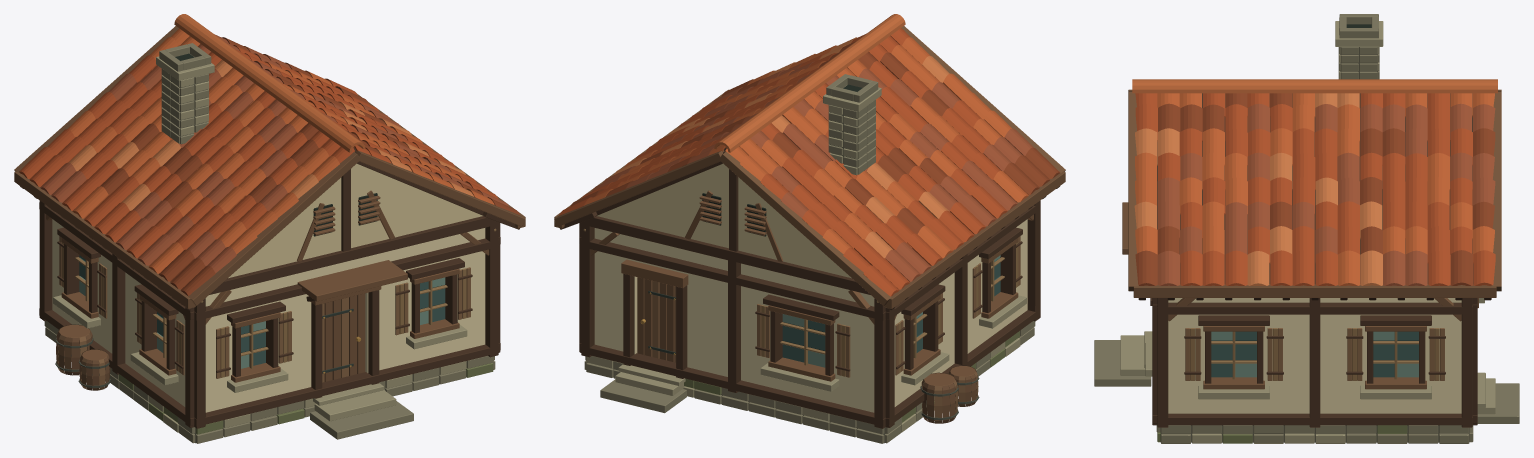
Rendered from cottage.glb.
The picture shows the model from 3 angles, left to right: view 1: azimuth 30°, elevation 25°; view 2: azimuth 150°, elevation 25°; view 3: azimuth 270°, elevation 25°; orthographic projection. The views are drawn at different scales.
Parts seen in each view (by area): view 1: cottage_material_timber_structure, cottage_material_terracotta_russet, cottage_material_plaster_lime, cottage_material_timber_endgrain, cottage_material_terracotta_warm, cottage_material_terracotta_aged, cottage_material_plaster_warm, cottage_material_stone_aged, cottage_material_stone_light, cottage_material_terracotta_umber, cottage_material_door_oak_light, cottage_material_door_oak (+7 smaller); view 2: cottage_material_timber_structure, cottage_material_plaster_lime, cottage_material_terracotta_russet, cottage_material_timber_endgrain, cottage_material_terracotta_warm, cottage_material_terracotta_aged, cottage_material_stone_aged, cottage_material_plaster_warm, cottage_material_stone_light, cottage_material_terracotta_umber, cottage_material_terracotta_ridge, cottage_material_door_oak (+6 smaller); view 3: cottage_material_terracotta_russet, cottage_material_timber_structure, cottage_material_plaster_lime, cottage_material_terracotta_aged, cottage_material_terracotta_warm, cottage_material_timber_endgrain, cottage_material_stone_aged, cottage_material_terracotta_umber, cottage_material_terracotta_lit, cottage_material_stone_light, cottage_material_terracotta_ridge, cottage_material_window_glass (+5 smaller).
Part boxes in pixels (x1=…): cottage_material_timber_structure: x1=20, y1=147, x2=519, y2=428; cottage_material_terracotta_russet: x1=19, y1=45, x2=498, y2=258; cottage_material_plaster_lime: x1=52, y1=219, x2=485, y2=412; cottage_material_timber_endgrain: x1=14, y1=26, x2=525, y2=382; cottage_material_terracotta_warm: x1=68, y1=28, x2=494, y2=273; cottage_material_terracotta_aged: x1=40, y1=34, x2=508, y2=272; cottage_material_plaster_warm: x1=228, y1=163, x2=482, y2=278; cottage_material_stone_aged: x1=44, y1=43, x2=495, y2=443; cottage_material_stone_light: x1=53, y1=54, x2=467, y2=432; cottage_material_terracotta_umber: x1=100, y1=37, x2=519, y2=296; cottage_material_door_oak_light: x1=58, y1=236, x2=470, y2=390; cottage_material_door_oak: x1=56, y1=293, x2=365, y2=390; cottage_material_timber_structure: x1=559, y1=148, x2=1059, y2=428; cottage_material_plaster_lime: x1=594, y1=219, x2=1027, y2=412; cottage_material_terracotta_russet: x1=559, y1=28, x2=1007, y2=296; cottage_material_timber_endgrain: x1=554, y1=26, x2=1065, y2=386; cottage_material_terracotta_warm: x1=585, y1=37, x2=1028, y2=258; cottage_material_terracotta_aged: x1=592, y1=61, x2=1033, y2=281; cottage_material_stone_aged: x1=584, y1=74, x2=1035, y2=443; cottage_material_plaster_warm: x1=597, y1=163, x2=851, y2=278; cottage_material_stone_light: x1=586, y1=85, x2=1026, y2=432; cottage_material_terracotta_umber: x1=570, y1=41, x2=1060, y2=234; cottage_material_terracotta_ridge: x1=714, y1=14, x2=905, y2=152; cottage_material_door_oak: x1=637, y1=277, x2=976, y2=423; cottage_material_terracotta_russet: x1=1135, y1=93, x2=1495, y2=285; cottage_material_timber_structure: x1=1138, y1=93, x2=1491, y2=427; cottage_material_plaster_lime: x1=1168, y1=298, x2=1461, y2=413; cottage_material_terracotta_aged: x1=1157, y1=103, x2=1495, y2=285; cottage_material_terracotta_warm: x1=1135, y1=93, x2=1494, y2=285; cottage_material_timber_endgrain: x1=1122, y1=89, x2=1501, y2=389; cottage_material_stone_aged: x1=1094, y1=14, x2=1519, y2=443; cottage_material_terracotta_umber: x1=1135, y1=93, x2=1495, y2=285; cottage_material_terracotta_lit: x1=1134, y1=93, x2=1382, y2=285; cottage_material_stone_light: x1=1120, y1=21, x2=1495, y2=443; cottage_material_terracotta_ridge: x1=1132, y1=79, x2=1497, y2=93; cottage_material_window_glass: x1=1211, y1=331, x2=1418, y2=377.
Bounding box in the file's own units: 8.55 × 7.03 × 8.67.
